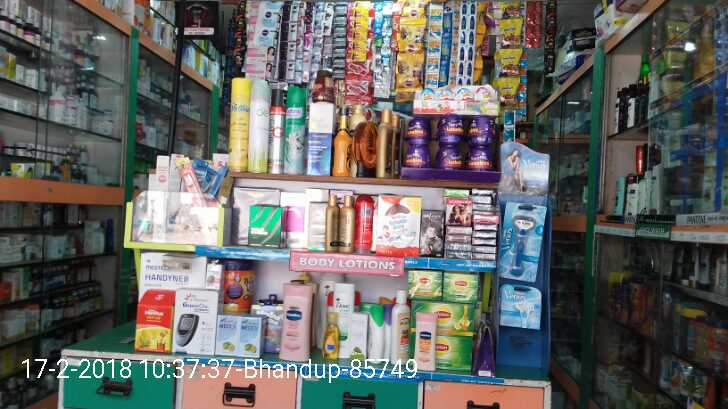beauty: (499, 197, 547, 283), (500, 281, 545, 333)
